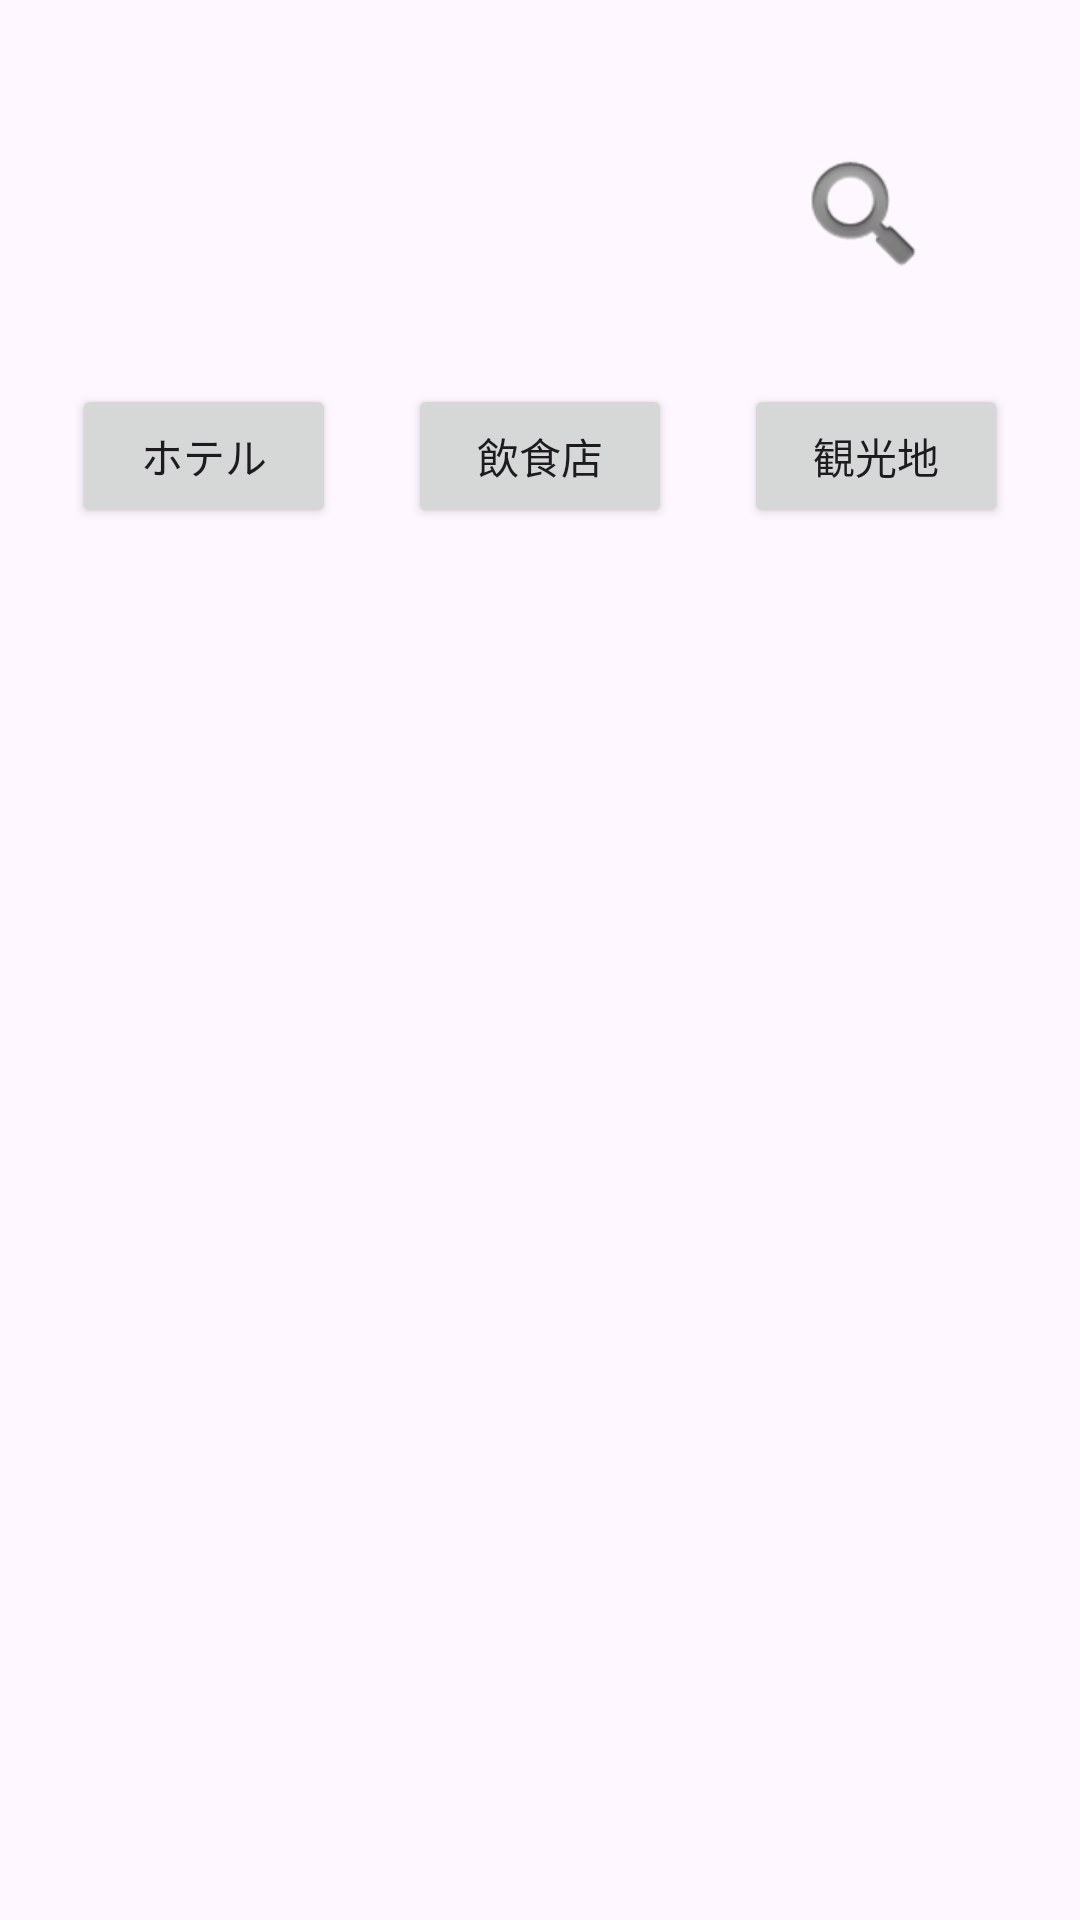

Icons on this 1080w x 1920h Android screen, each with the point to tap as (x=x, y=y):
search category: (x=863, y=213)
